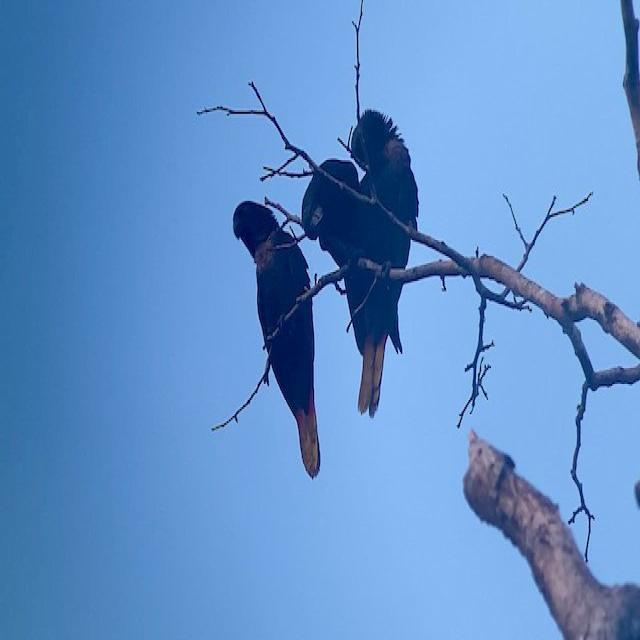Nuri Hitam: (297, 106, 438, 424), (215, 185, 328, 487)
